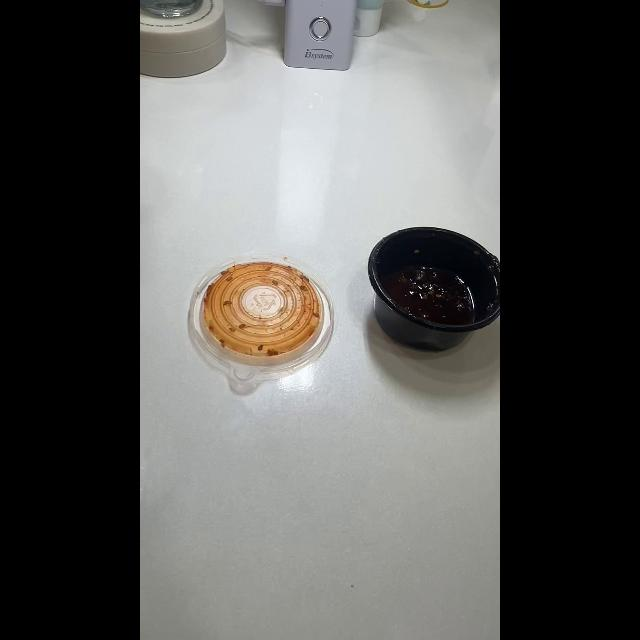dirty: (368, 226, 500, 360), (196, 260, 334, 386)
